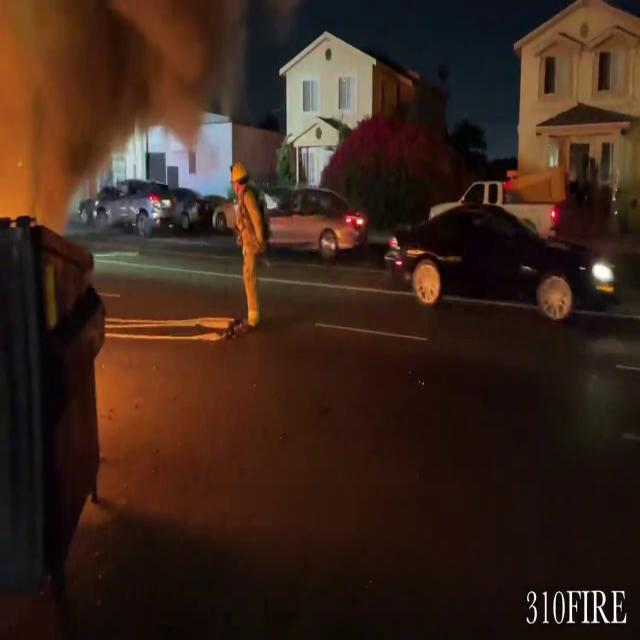Smoke: (0, 0, 288, 183)
